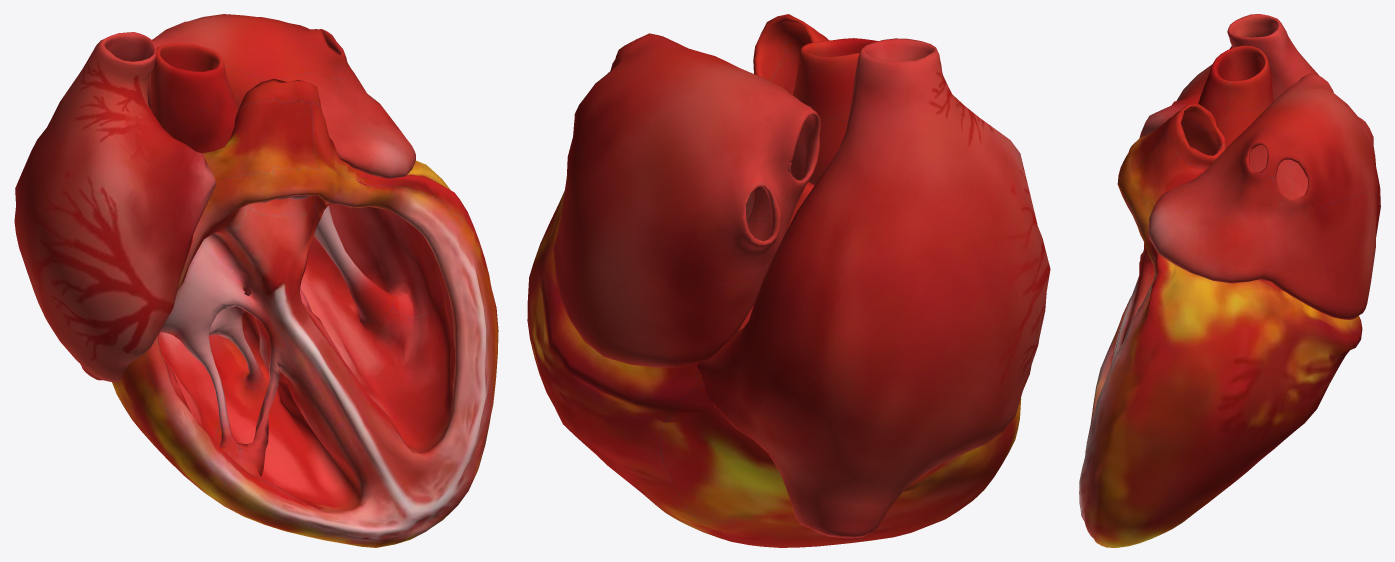
The model's file is heart_cutaway.glb.
3 views of the same model, side by side, from view 1: azimuth 30°, elevation 25°; view 2: azimuth 150°, elevation 25°; view 3: azimuth 270°, elevation 25° (orthographic). The views are drawn at different scales.
Parts seen in each view (by area): view 1: Ventricles, RightAtrium, LeftAtrium; view 2: RightAtrium, LeftAtrium, Ventricles; view 3: Ventricles, LeftAtrium, RightAtrium.
Boxes of the visible parts, x1,y1,x2,y2 form: Ventricles: (112,78,498,547); RightAtrium: (14,32,311,382); LeftAtrium: (147,14,415,178); RightAtrium: (697,38,1050,538); LeftAtrium: (553,33,820,367); Ventricles: (527,14,1021,547); Ventricles: (1079,104,1362,547); LeftAtrium: (1148,73,1377,319); RightAtrium: (1139,14,1380,236).
Size of the model in its own units: 0.0726 by 0.0847 by 0.0532.
Materials: 3 (3 with a texture image).
